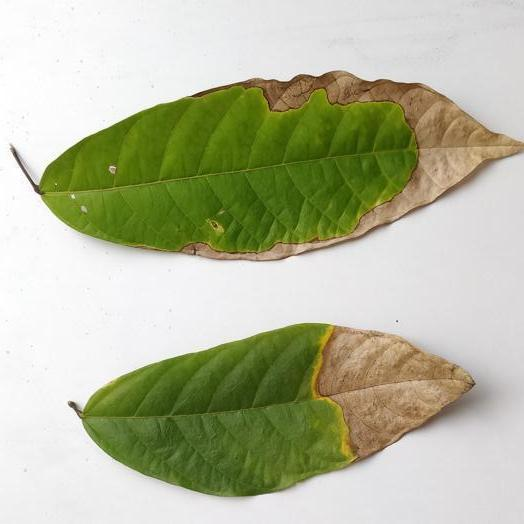Potassium: (33, 72, 523, 259), (71, 323, 473, 495)
